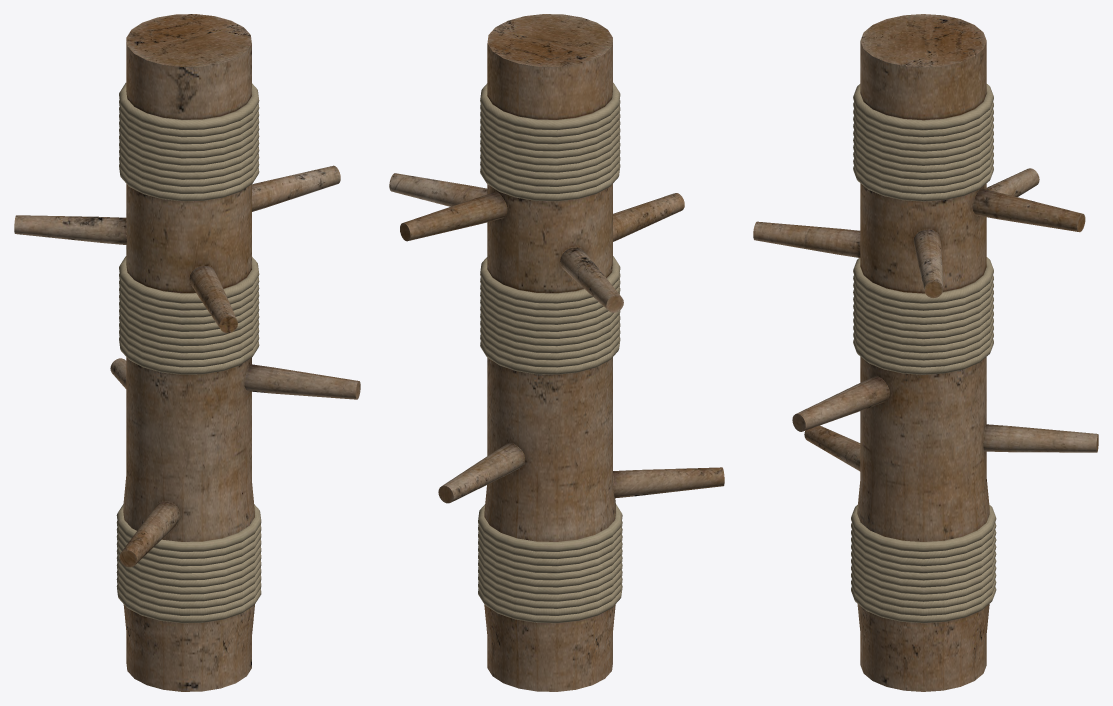
File: input.glb
3 views of the same model, side by side, from view 1: azimuth 30°, elevation 25°; view 2: azimuth 150°, elevation 25°; view 3: azimuth 270°, elevation 25° (orthographic).
Parts seen in each view (by area): view 1: Log_Mesh, Ropes_Mesh.001, Tabs_Mesh.002; view 2: Log_Mesh, Ropes_Mesh.001, Tabs_Mesh.002; view 3: Log_Mesh, Ropes_Mesh.001, Tabs_Mesh.002.
Boxes of the visible parts, x1,y1,x2,y2 form: Log_Mesh: (123,14,254,691); Ropes_Mesh.001: (116,83,261,623); Tabs_Mesh.002: (14,165,360,567); Log_Mesh: (484,14,615,691); Ropes_Mesh.001: (478,82,622,623); Tabs_Mesh.002: (389,173,724,503); Log_Mesh: (857,14,989,691); Ropes_Mesh.001: (851,84,996,623); Tabs_Mesh.002: (753,168,1098,471).
Bounding box in the file's own units: 12.21 × 26.39 × 13.23.
1 material, 1 textured.
